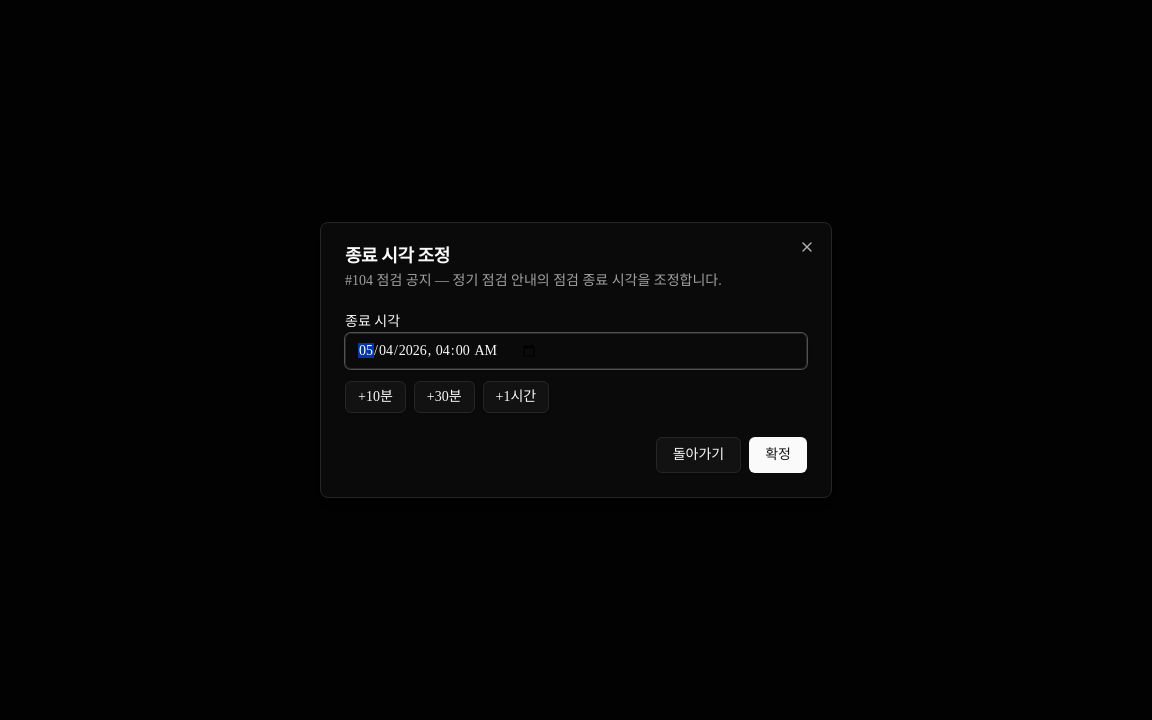
Test: AdjustScheduleDialog › +30분 버튼 클릭 시 input 이 scheduledEndAt 기준 +30분으로 변경됨
Expected: the field labelled "종료 시각" holds "2026-05-04T04:00", [345,333,807,369]
Click the button "+30분".
click(444, 397)  # box [414,381,475,413]
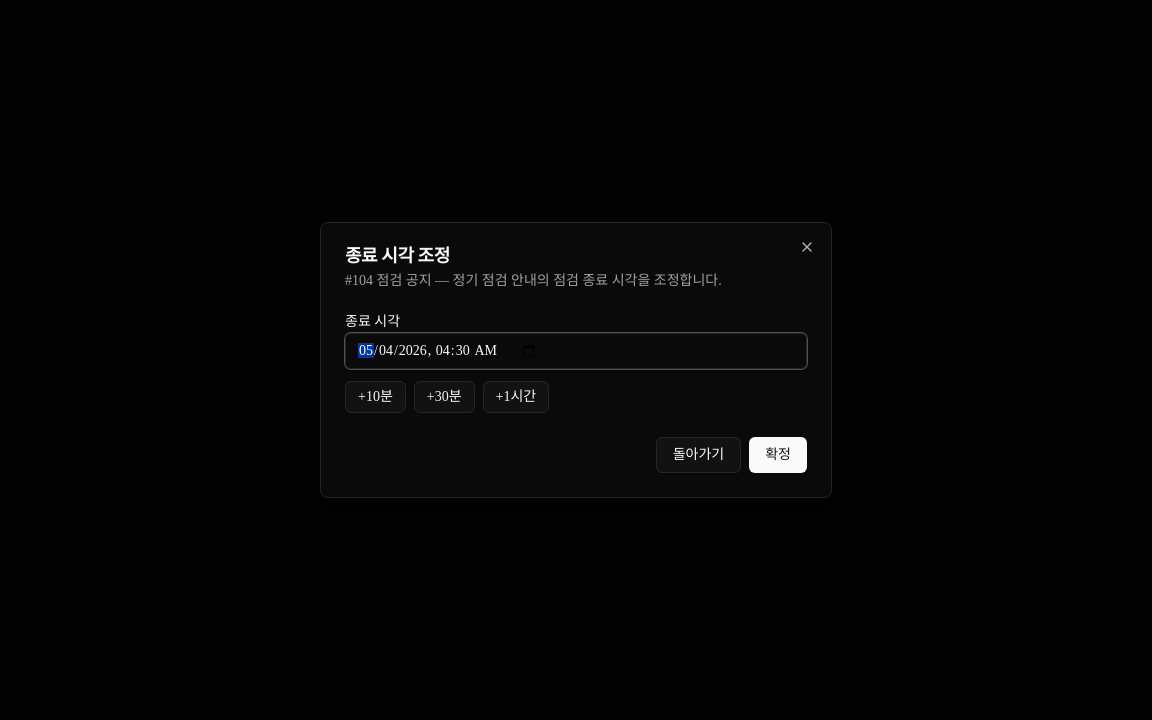
Now the field labelled "종료 시각" holds "2026-05-04T04:30", box [345,333,807,369]
